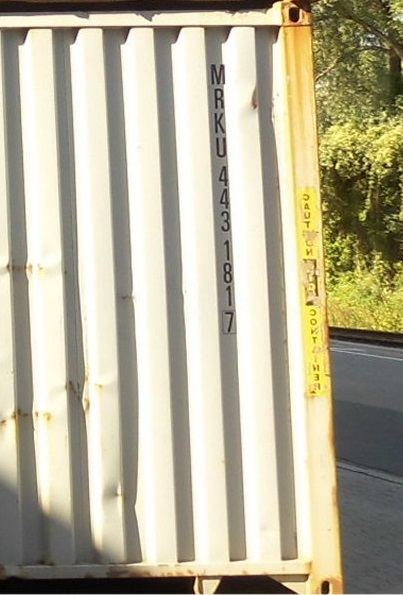container_no_door: (3, 6, 341, 593)
